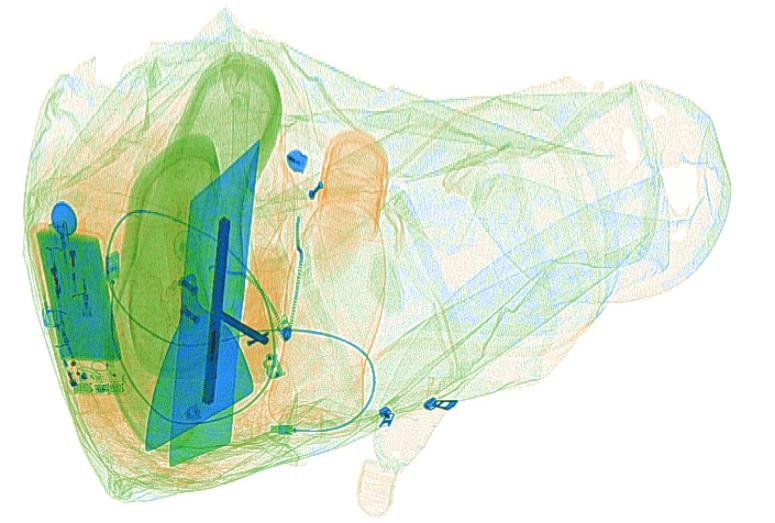lighter: (48, 318, 105, 413), (29, 221, 65, 326), (63, 207, 94, 318)
